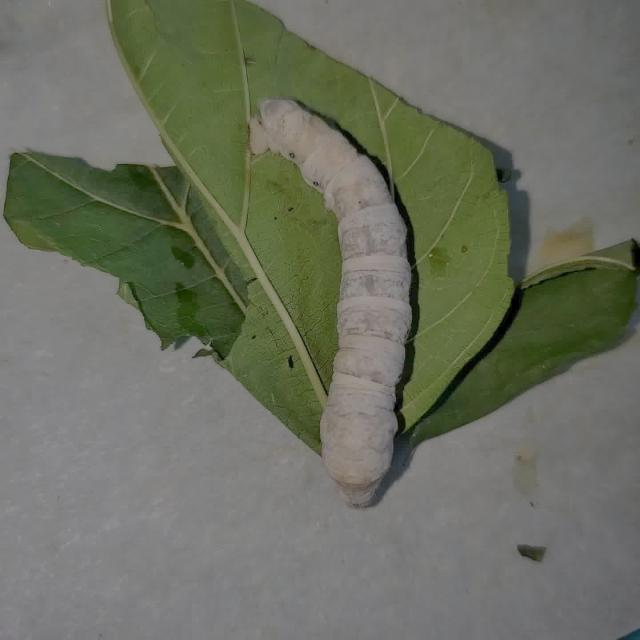Grasserie: (203, 54, 493, 536)
